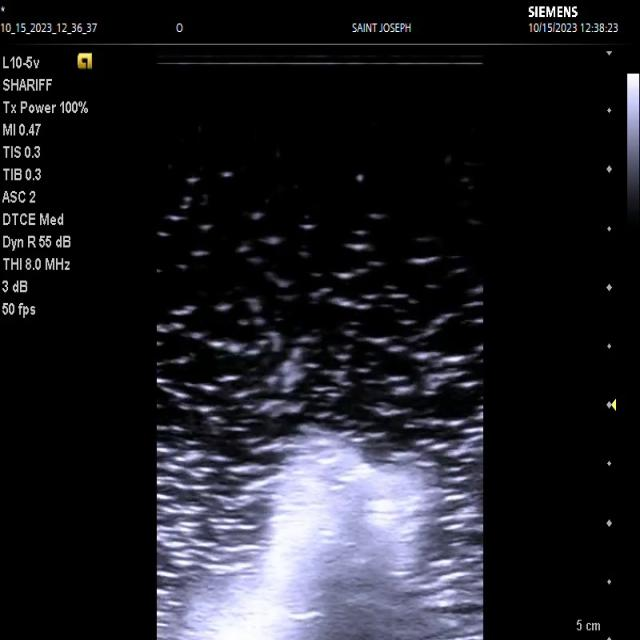tissue: (196, 452, 446, 640)
